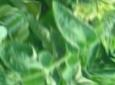Tomato mold leaf: (41, 0, 99, 56), (0, 27, 55, 85)
